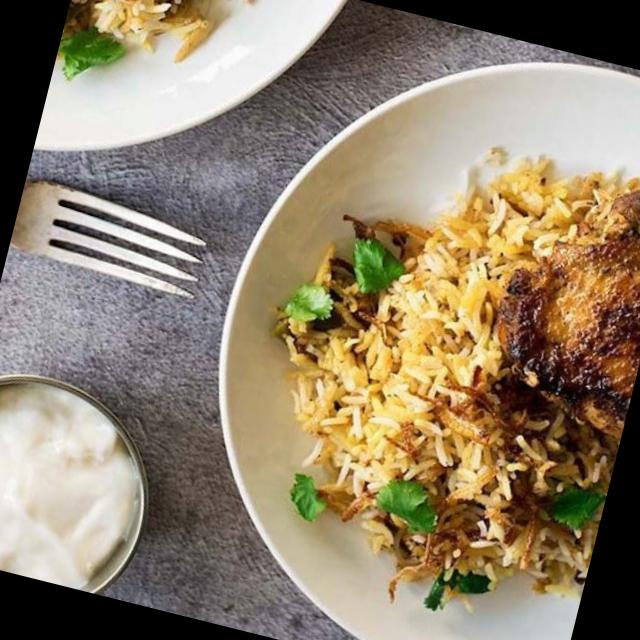Biryani: (267, 62, 640, 624)
